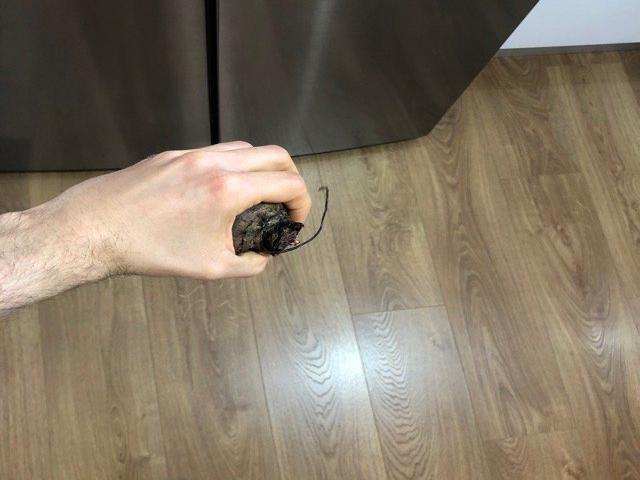beet: (232, 184, 331, 255)
